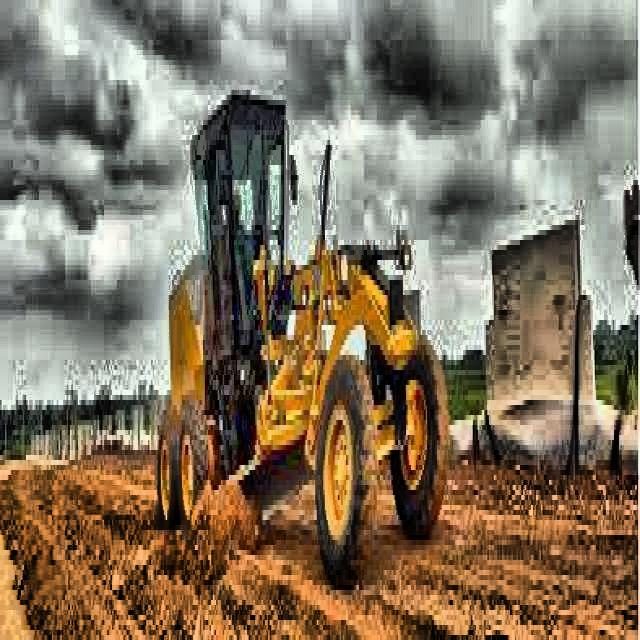bull_dozer/loader/grader: (158, 88, 452, 586)
person: (228, 192, 251, 256)
